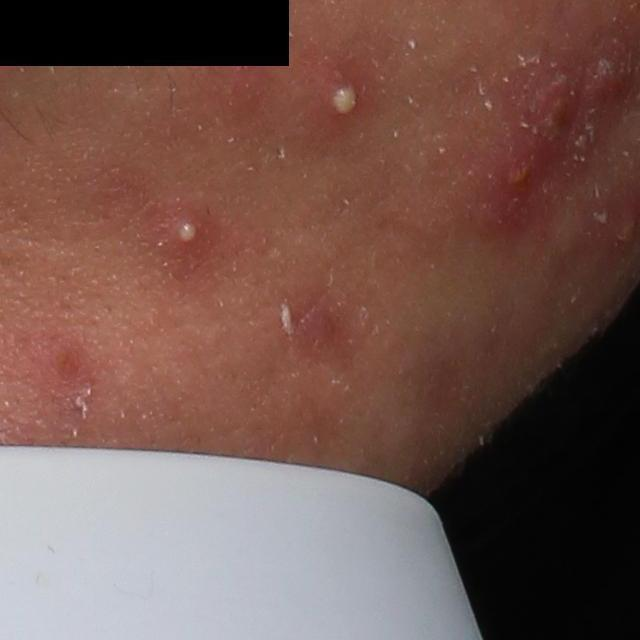papule: (524, 72, 580, 147), (216, 49, 274, 117), (582, 54, 635, 102)
pustule: (303, 58, 379, 129), (493, 138, 546, 211), (162, 204, 221, 263)
